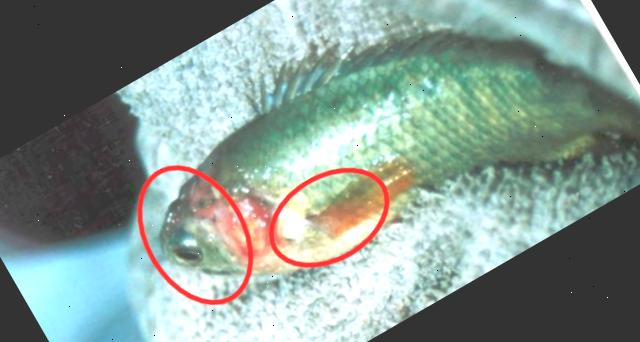Epizootic Ulcerative Syndrome -EUS-: (158, 30, 640, 273), (160, 30, 640, 273), (159, 31, 640, 273)
